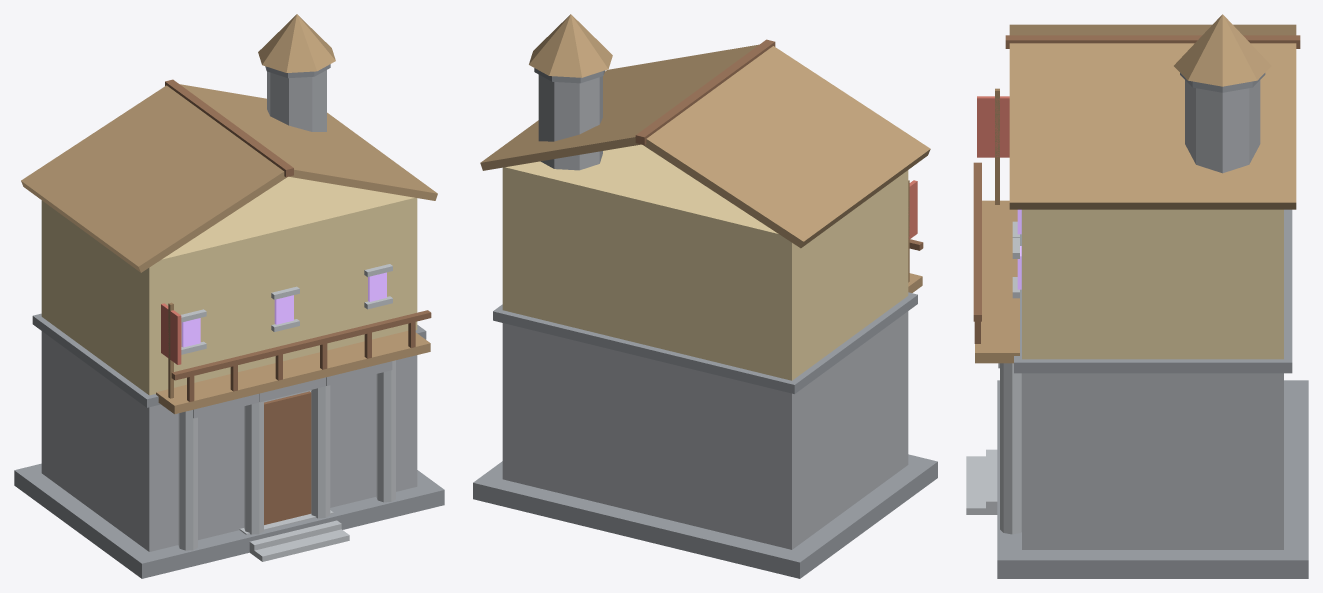
File: town_hall.glb
3 views of the same model, side by side, from view 1: azimuth 30°, elevation 25°; view 2: azimuth 150°, elevation 25°; view 3: azimuth 270°, elevation 25° (orthographic). The views are drawn at different scales.
Visible parts, largest first — view 1: upper_floor, ground_floor, roof_l, plinth.001, roof_r, balcony_floor, door_leaf.001, bell_tower, bell_roof, colonnade_col, colonnade_col.003, colonnade_col.001 (+10 smaller); view 2: upper_floor, ground_floor, roof_l, plinth.001, roof_r, floor_band, bell_tower, bell_roof, ridge; view 3: ground_floor, upper_floor, roof_r, plinth.001, bell_tower, floor_band, balcony_floor, bell_roof, colonnade_col.003, roof_l, ridge, banner_cloth (+5 smaller).
Boxes of the visible parts, x1,y1,x2,y2 form: upper_floor: [41, 176, 417, 395]; ground_floor: [41, 331, 417, 551]; roof_l: [21, 85, 287, 272]; plinth.001: [14, 463, 444, 578]; roof_r: [180, 84, 437, 200]; balcony_floor: [156, 331, 430, 414]; door_leaf.001: [264, 391, 311, 524]; bell_tower: [267, 70, 326, 131]; bell_roof: [258, 14, 335, 72]; colonnade_col: [178, 410, 197, 550]; colonnade_col.003: [376, 360, 395, 502]; colonnade_col.001: [244, 401, 263, 534]; upper_floor: [502, 144, 908, 380]; ground_floor: [502, 311, 908, 549]; roof_l: [643, 46, 930, 248]; plinth.001: [473, 454, 937, 578]; roof_r: [480, 44, 758, 170]; floor_band: [493, 292, 917, 393]; bell_tower: [538, 75, 602, 170]; bell_roof: [529, 14, 612, 77]; ridge: [635, 39, 775, 145]; ground_floor: [1022, 373, 1283, 549]; upper_floor: [1022, 209, 1283, 359]; roof_r: [1009, 43, 1296, 209]; plinth.001: [997, 380, 1308, 578]; bell_tower: [1185, 80, 1260, 173]; floor_band: [1014, 209, 1292, 373]; balcony_floor: [975, 200, 1019, 363]; bell_roof: [1174, 14, 1271, 86]; colonnade_col.003: [1000, 363, 1021, 534]; roof_l: [1009, 24, 1296, 35]; ridge: [1005, 35, 1300, 48]; banner_cloth: [977, 96, 1009, 157].
Size of the model in its own units: 5.2 by 7.17 by 4.18.
